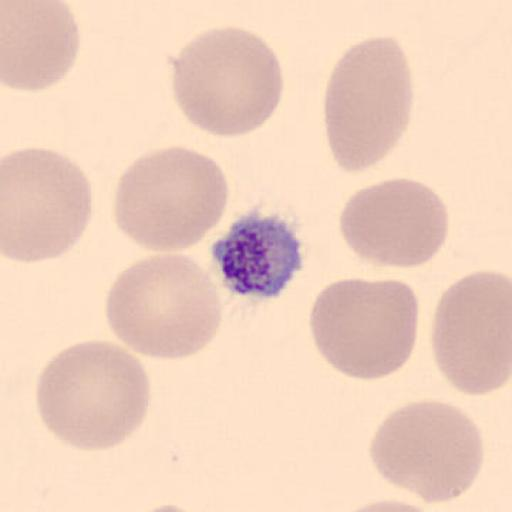Platelet: (211, 208, 307, 300)
RBC: (33, 338, 153, 452), (170, 25, 285, 140), (112, 144, 230, 254), (104, 253, 223, 361), (324, 34, 414, 176), (368, 398, 485, 504), (308, 276, 420, 382), (3, 145, 94, 264), (337, 176, 451, 270), (429, 268, 512, 397), (2, 1, 82, 92), (333, 496, 442, 512), (128, 502, 208, 512)
